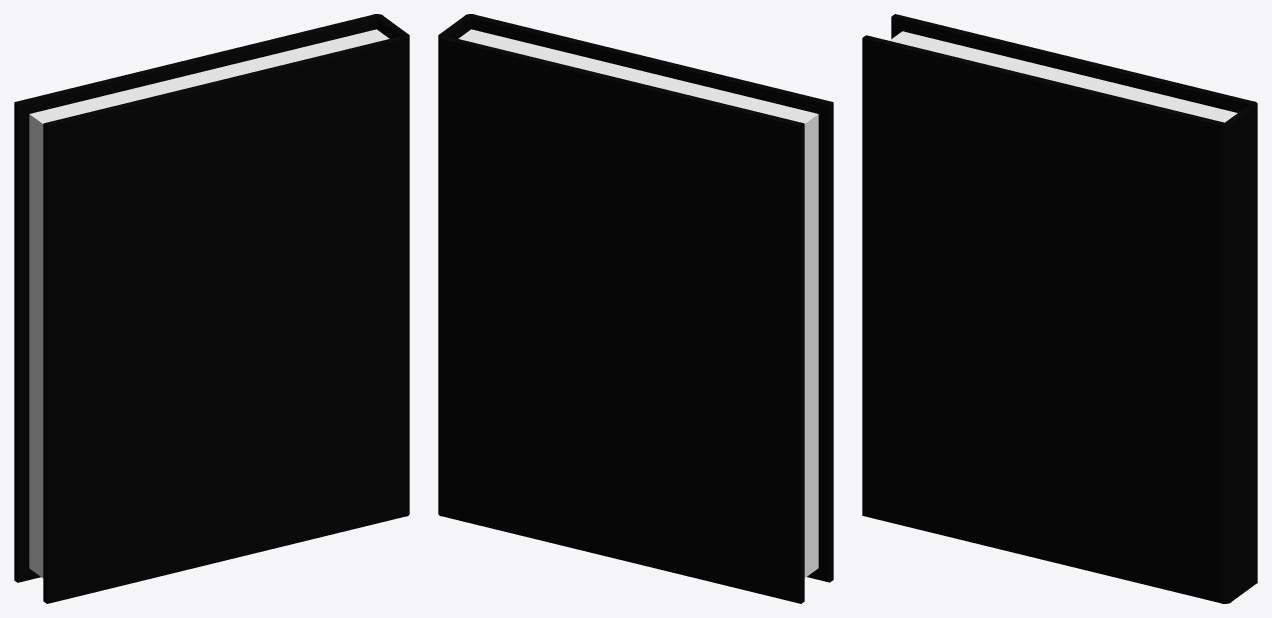
File: book.dae
3 renders of one model, left to right at view 1: azimuth 30°, elevation 25°; view 2: azimuth 150°, elevation 25°; view 3: azimuth 330°, elevation 25°, orthographic.
Visible parts, largest first — view 1: Cube; view 2: Cube; view 3: Cube.
Boxes of the visible parts, left/top/right/bottom form: Cube: left=14, top=14, right=409, bottom=603; Cube: left=438, top=14, right=833, bottom=603; Cube: left=862, top=14, right=1257, bottom=603.
Size of the model in its own units: 1.6 by 0.25 by 2.
Materials: 1 (1 with a texture image).
